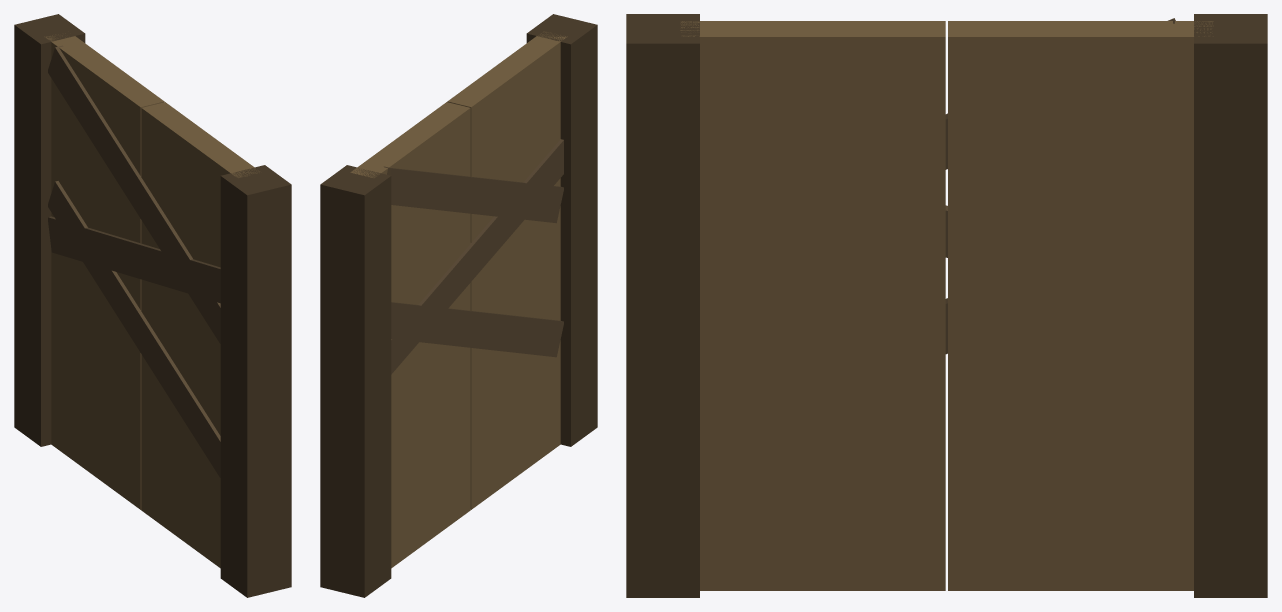
File: door.fbx
3 views of the same model, side by side, from view 1: azimuth 30°, elevation 25°; view 2: azimuth 150°, elevation 25°; view 3: azimuth 270°, elevation 25° (orthographic). The views are drawn at different scales.
Visible parts, largest first — view 1: Cube_3, Cube_1, Cube_2, Cube, Cube_8, Cube_7, Cube_4; view 2: Cube, Cube_2, Cube_1, Cube_3, Cube_7, Cube_8, Cube_4; view 3: Cube_2, Cube_1, Cube, Cube_3.
Part boxes in pixels (x1,y1,x2,y2): Cube_3: (220,165,291,597); Cube_1: (44,33,164,509); Cube_2: (141,102,259,568); Cube: (14,14,85,446); Cube_8: (48,181,220,477); Cube_7: (48,45,220,343); Cube_4: (48,216,220,303); Cube: (320,165,391,597); Cube_2: (447,31,567,509); Cube_1: (350,102,470,568); Cube_3: (526,14,597,446); Cube_7: (384,166,563,223); Cube_8: (391,302,563,357); Cube_4: (391,139,563,374); Cube_2: (680,21,945,590); Cube_1: (948,21,1213,590); Cube: (1194,14,1267,597); Cube_3: (626,14,699,597).
Bounding box in the file's own units: 90.63 × 788 × 825.
